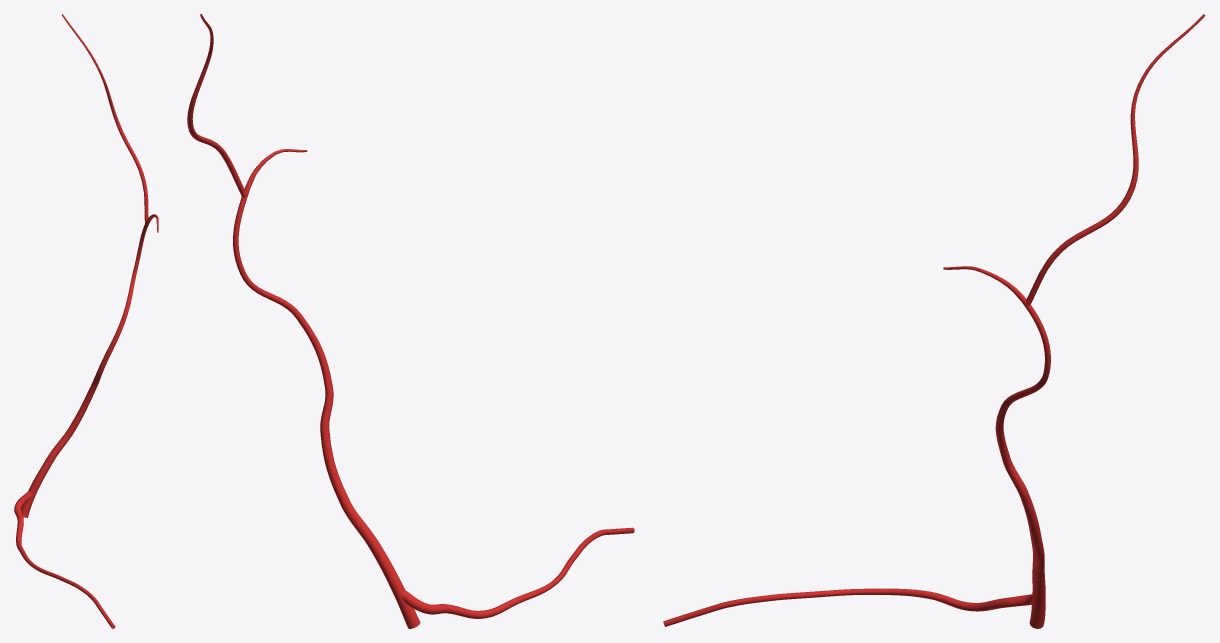
The model's file is circulatorio-retromandibular-vein-l.glb.
3 renders of one model, left to right at view 1: azimuth 30°, elevation 25°; view 2: azimuth 150°, elevation 25°; view 3: azimuth 270°, elevation 25°, orthographic. The views are drawn at different scales.
Visible parts, largest first — view 1: Superficial temporal veins.l, Maxillary veins.l, Retromandibular vein.l; view 2: Superficial temporal veins.l, Maxillary veins.l, Retromandibular vein.l; view 3: Superficial temporal veins.l, Maxillary veins.l, Retromandibular vein.l.
Part boxes in pixels (x1,y1,x2,y2): Superficial temporal veins.l: [46, 14, 158, 461]; Maxillary veins.l: [14, 491, 115, 628]; Retromandibular vein.l: [21, 458, 52, 517]; Superficial temporal veins.l: [187, 14, 378, 548]; Maxillary veins.l: [401, 527, 634, 618]; Retromandibular vein.l: [369, 542, 420, 628]; Superficial temporal veins.l: [943, 14, 1205, 573]; Maxillary veins.l: [663, 588, 1032, 626]; Retromandibular vein.l: [1029, 569, 1045, 628].
Bounding box in the file's own units: 0.0506 × 0.1273 × 0.0887.
